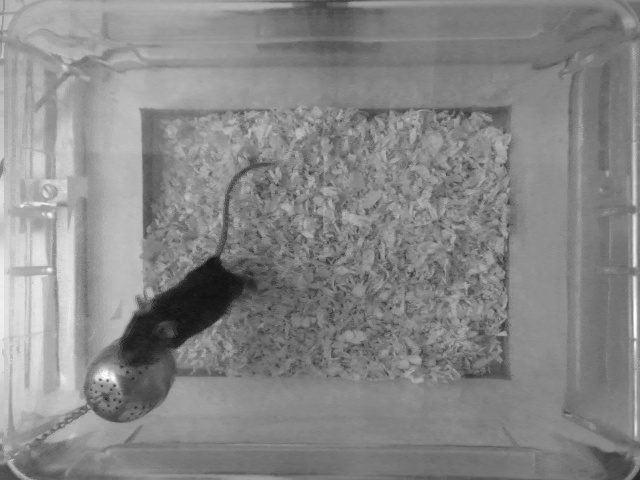mice: (115, 155, 287, 371)
